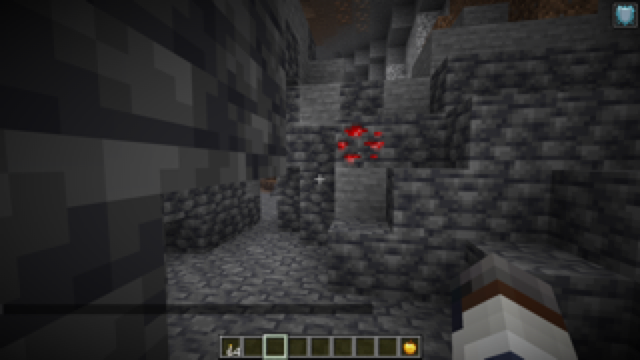redstone: (335, 123, 386, 169)
